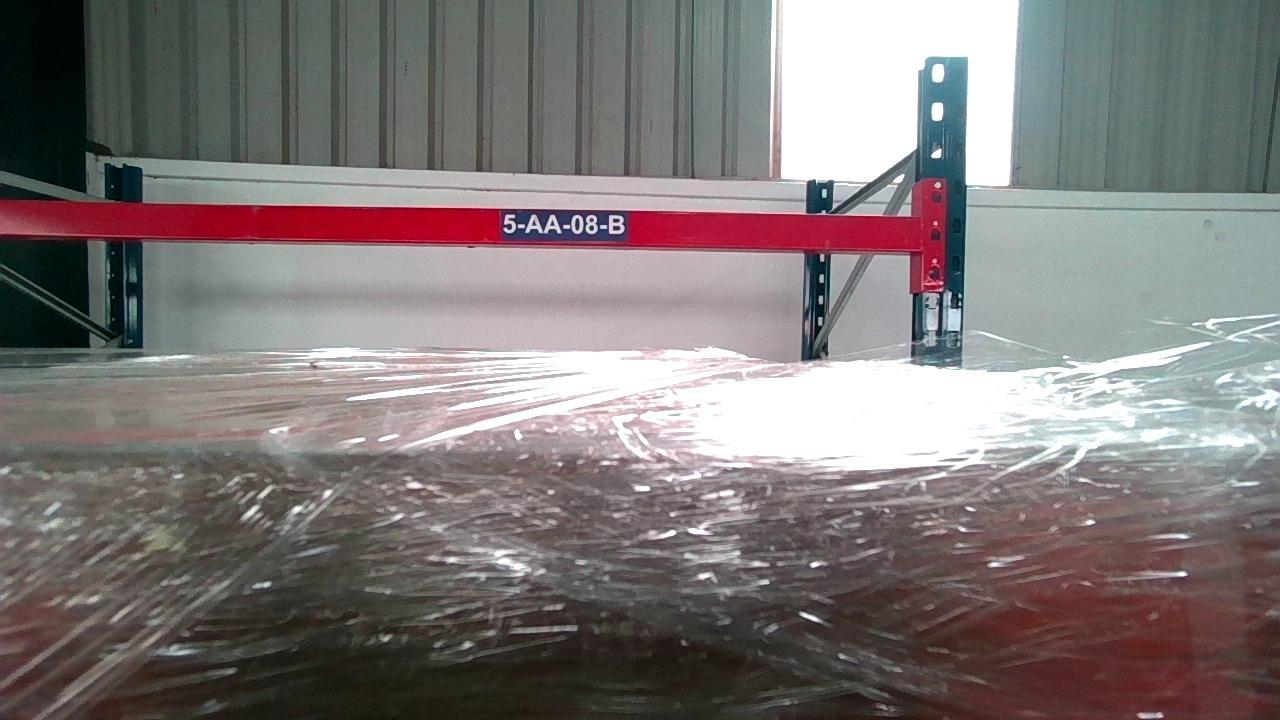h_rack: (0, 199, 922, 251)
